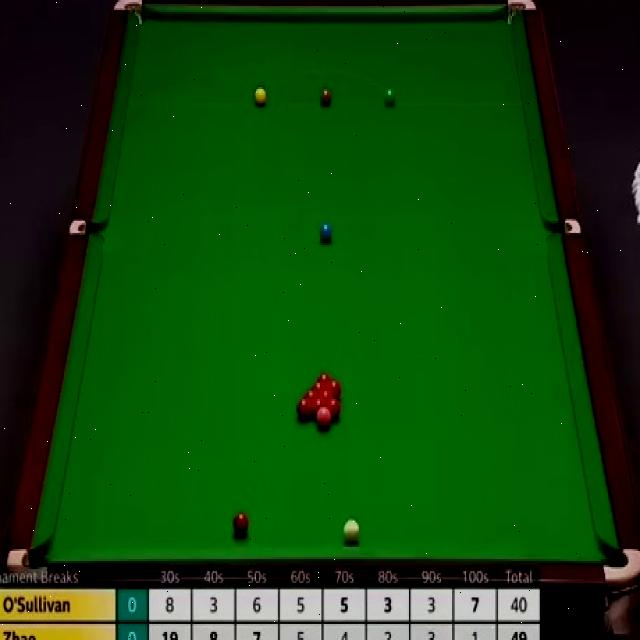blue-ball: (320, 221, 332, 244)
brown-ball: (320, 87, 333, 107)
green-ball: (384, 87, 398, 109)
pink-ball: (316, 405, 332, 432)
red-ball: (325, 377, 342, 402), (296, 398, 313, 420), (233, 512, 248, 536), (325, 398, 341, 420), (313, 397, 327, 418), (317, 388, 337, 401), (303, 389, 318, 404), (312, 379, 326, 394), (319, 370, 332, 384)
white-ball: (341, 516, 360, 542)
yellow-ball: (252, 86, 268, 107)
